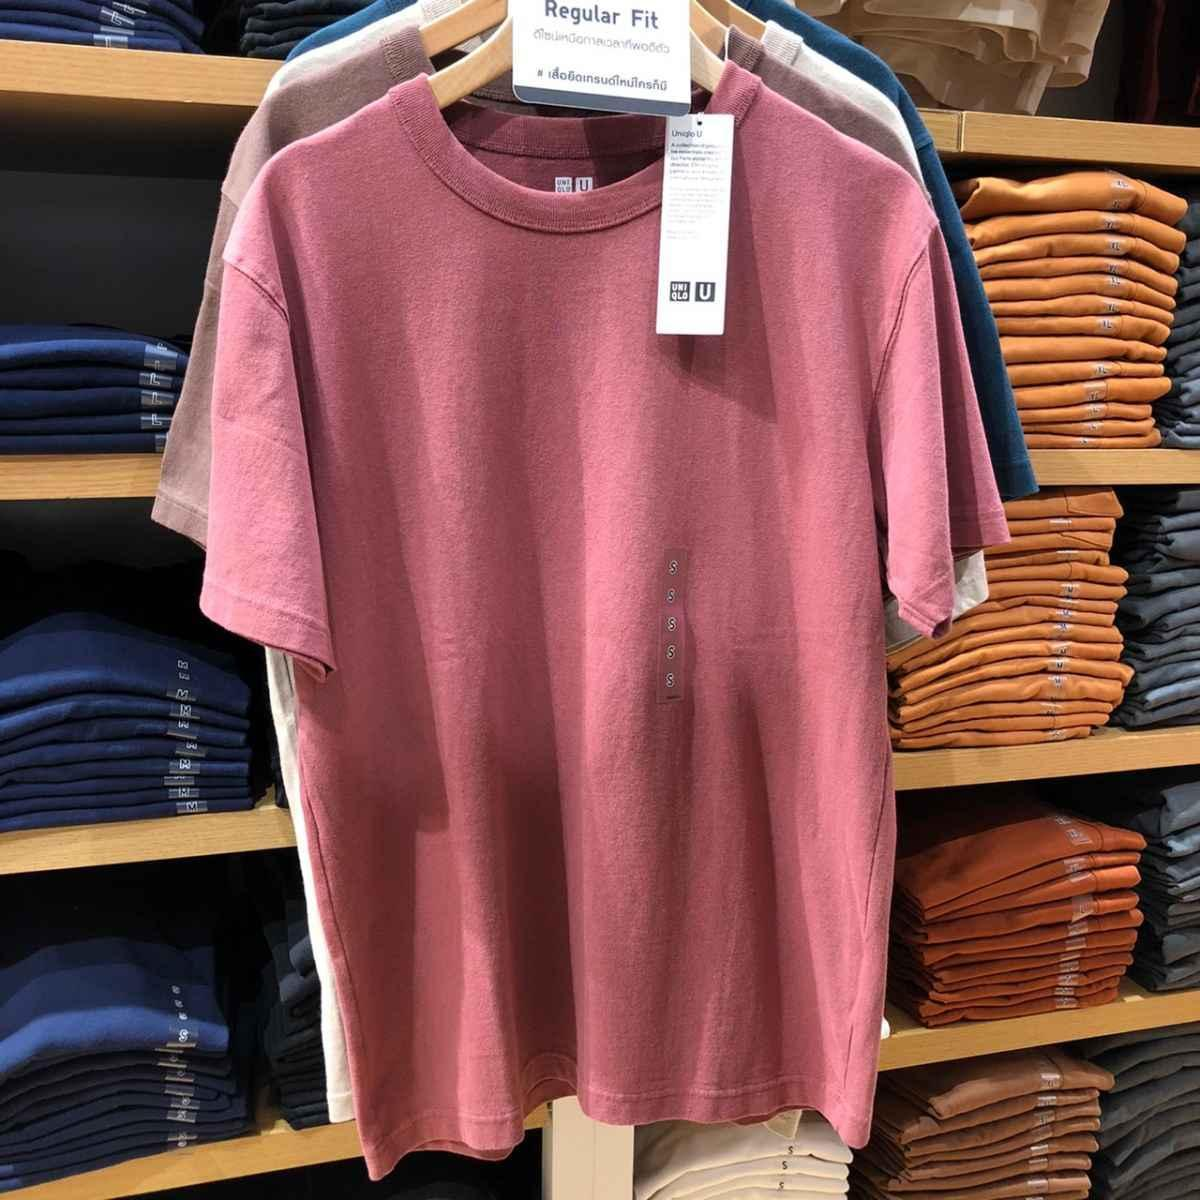Tshirt: (158, 65, 976, 1195)
